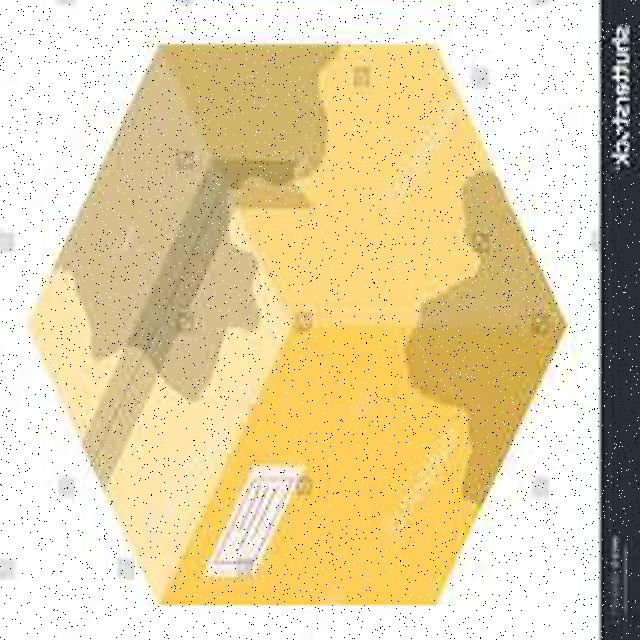defect: (20, 45, 572, 614)
